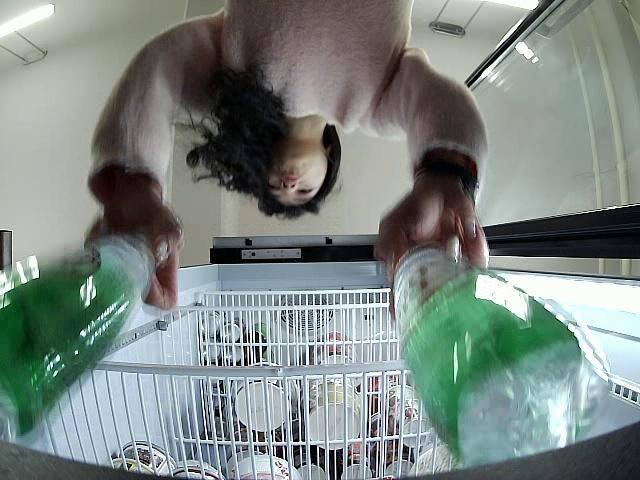18_trevi: (388, 248, 616, 470), (0, 230, 155, 453)
